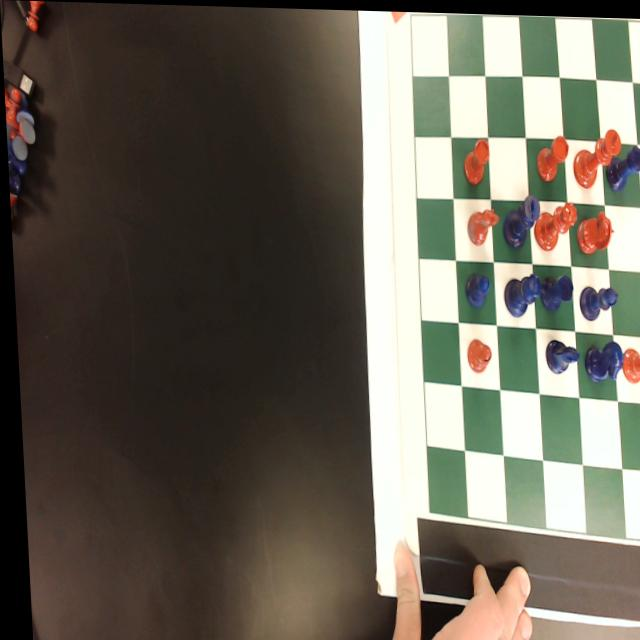B: (574, 280, 618, 319), (461, 267, 488, 309)
K: (498, 188, 541, 253)
N: (580, 337, 624, 384), (541, 334, 578, 377)
Q: (499, 270, 541, 315)
R: (603, 139, 640, 189), (536, 270, 572, 309)
b: (463, 335, 488, 371), (619, 343, 640, 379)
k: (569, 124, 622, 187)
n: (574, 207, 614, 255), (464, 203, 499, 245)
q: (533, 197, 577, 248)
r: (534, 131, 570, 182), (461, 135, 489, 183)
